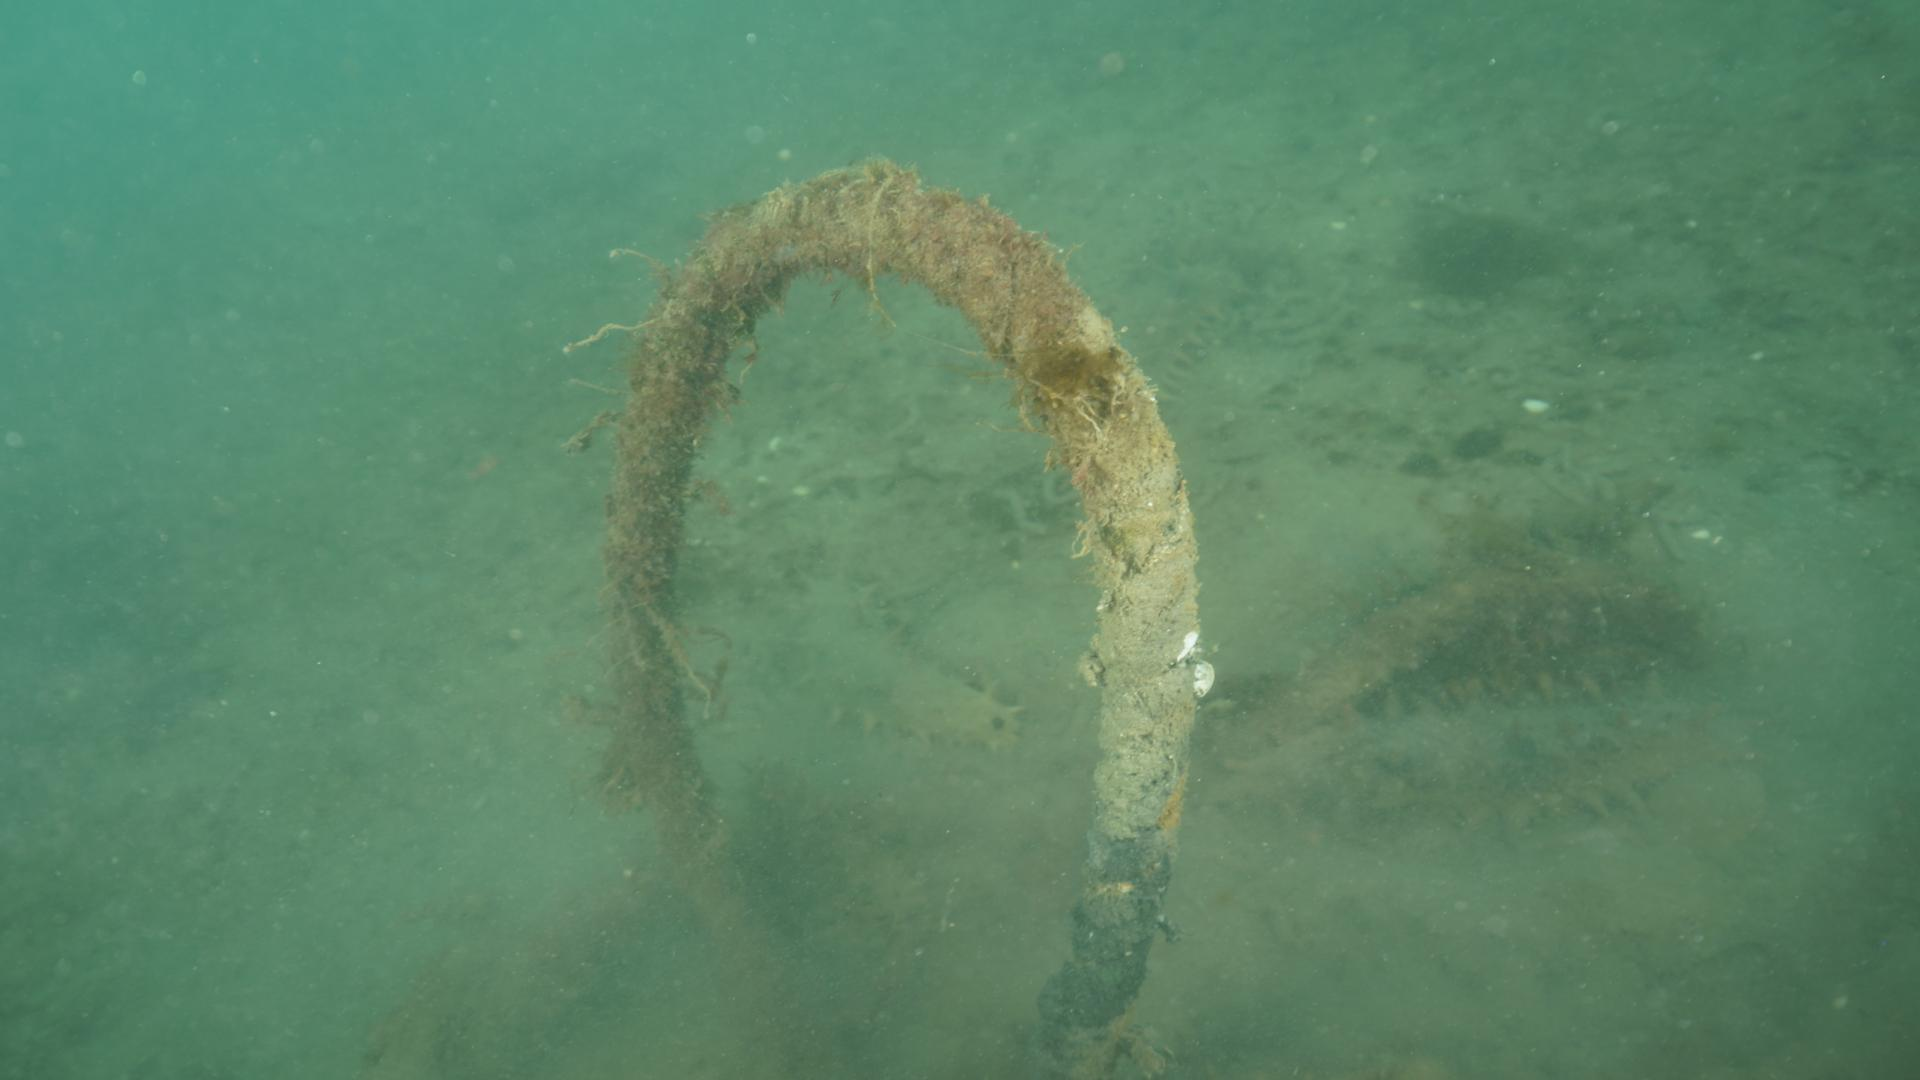rope: (597, 153, 1213, 1080)
